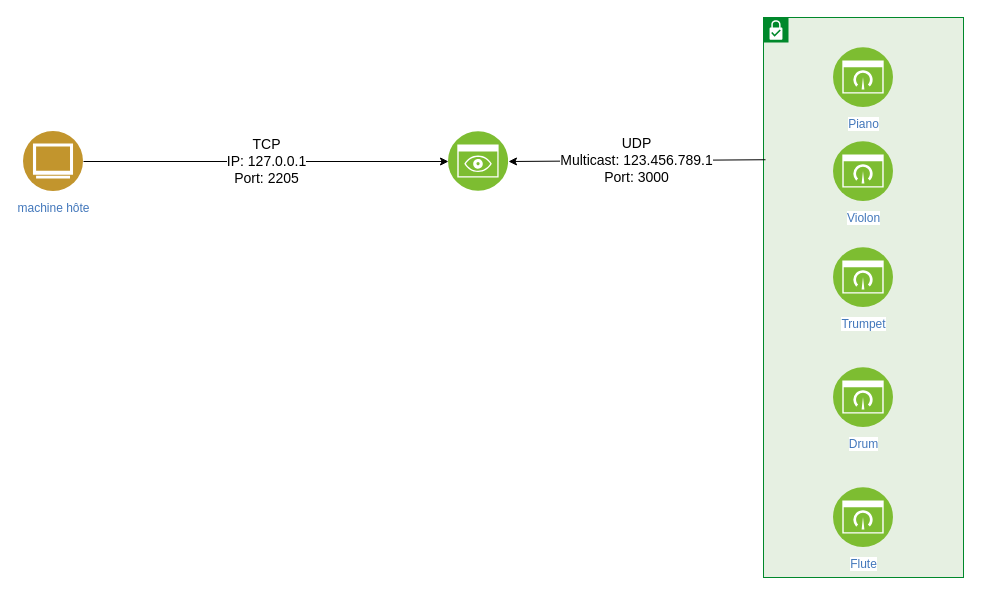
Some shapes in this 981 by 595 pixel diagram are drawn without their labels. The box of each missing label's shape, as (x1, y1, x2, y2) in pixels:
Auditor: (448, 131, 508, 191)
Musician: (762, 16, 964, 578)
